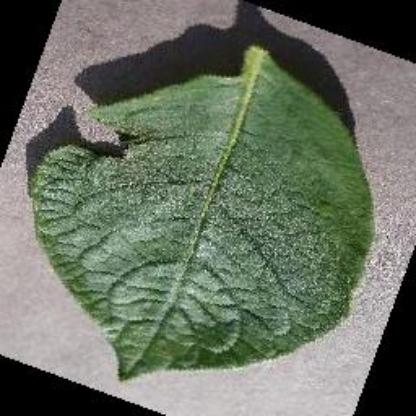Healthy-plant: (26, 42, 384, 382)
